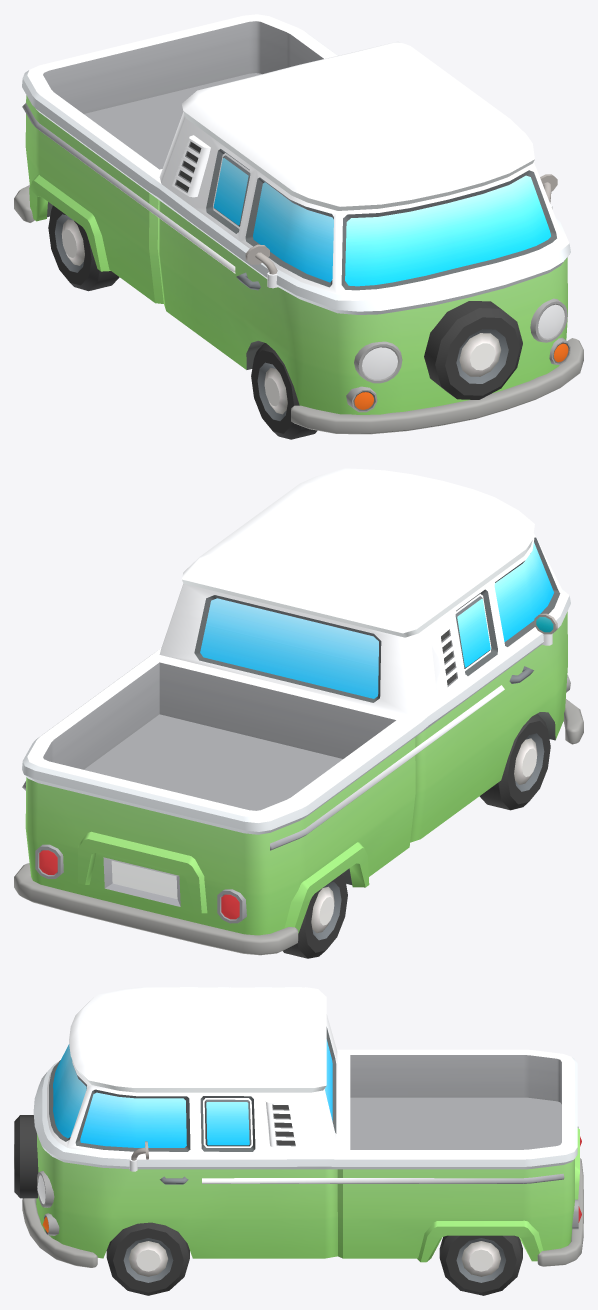
File: city2-car-07.glb
The picture shows the model from 3 angles, top to bottom: view 1: azimuth 30°, elevation 25°; view 2: azimuth 150°, elevation 25°; view 3: azimuth 270°, elevation 25°; orthographic projection. The views are drawn at different scales.
Parts seen in each view (by area): view 1: Car_07, Wheel_269, Wheel_270; view 2: Car_07, Wheel_269, Wheel_270; view 3: Car_07, Wheel_271, Wheel_272.
Boxes of the visible parts, x1,y1,x2,y2 form: Car_07: (14,14,583,434); Wheel_269: (251,343,317,439); Wheel_270: (48,205,119,291); Car_07: (14,468,583,955); Wheel_269: (479,713,550,810); Wheel_270: (283,873,347,958); Car_07: (14,987,583,1267); Wheel_271: (106,1222,189,1295); Wheel_272: (439,1235,522,1295).
Size of the model in its own units: 2.99 by 2.61 by 5.79.
2 materials, 2 textured.
